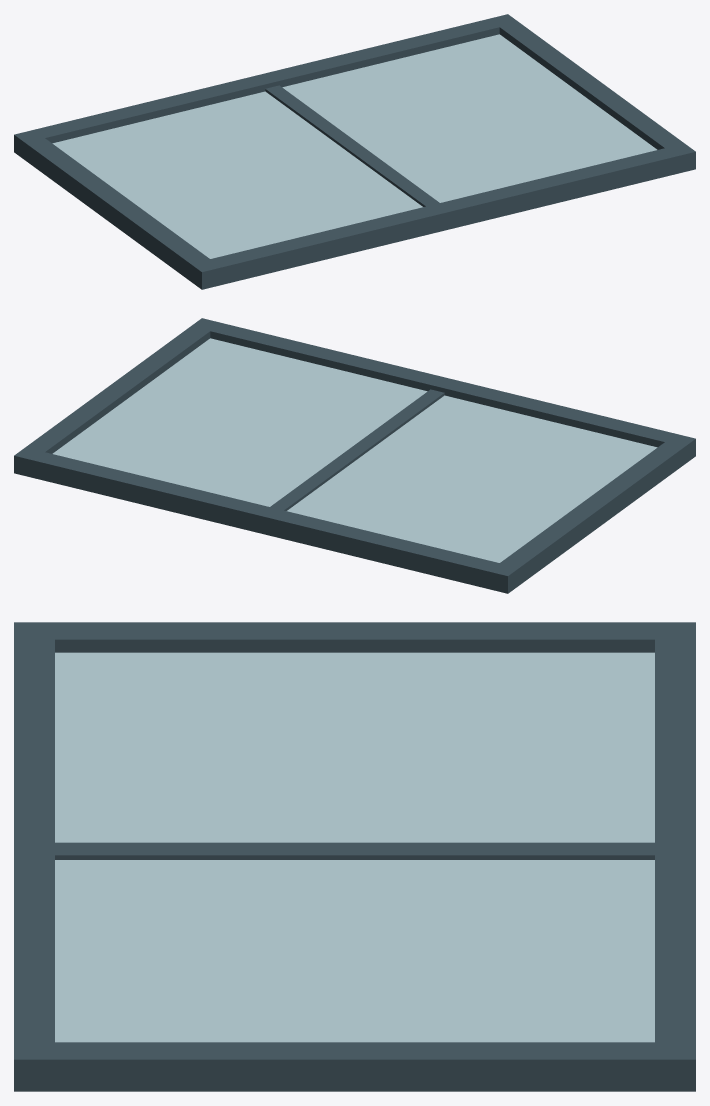
Rendered from window.leaf.1m8.obj.
3 renders of one model, top to bottom at view 1: azimuth 30°, elevation 25°; view 2: azimuth 150°, elevation 25°; view 3: azimuth 270°, elevation 25°, orthographic. The views are drawn at different scales.
Parts seen in each view (by area): view 1: window.leaf.1m8; view 2: window.leaf.1m8; view 3: window.leaf.1m8.
Boxes of the visible parts, x1=… form: window.leaf.1m8: x1=14, y1=14, x2=695, y2=289; window.leaf.1m8: x1=14, y1=318, x2=695, y2=593; window.leaf.1m8: x1=14, y1=622, x2=695, y2=1091.
Bounding box in the file's own units: 1.76 × 0.06 × 1.16.
